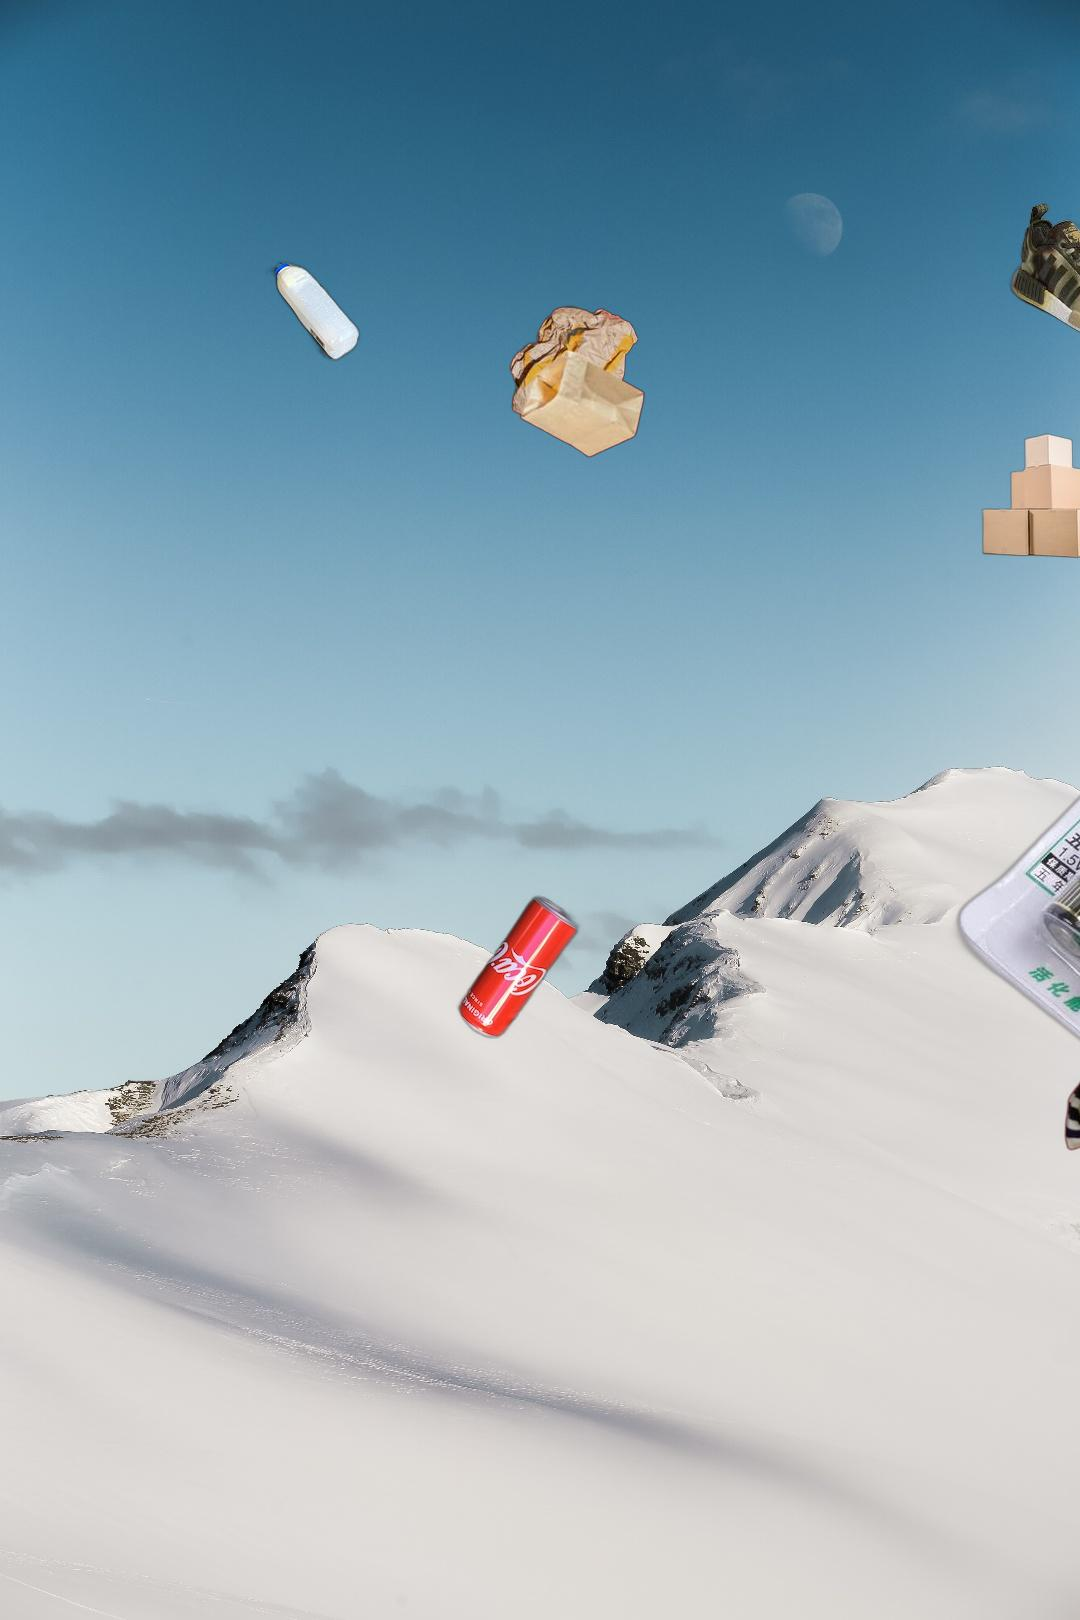battery: (947, 554, 1080, 1218)
clothes: (1060, 884, 1080, 1174)
metal-cans: (349, 891, 845, 1275)
paper-bag: (507, 305, 648, 460)
plastic-bottles: (263, 257, 364, 366)
shoes: (1005, 201, 1080, 344)
trashbox-cardboard: (978, 431, 1080, 560)
